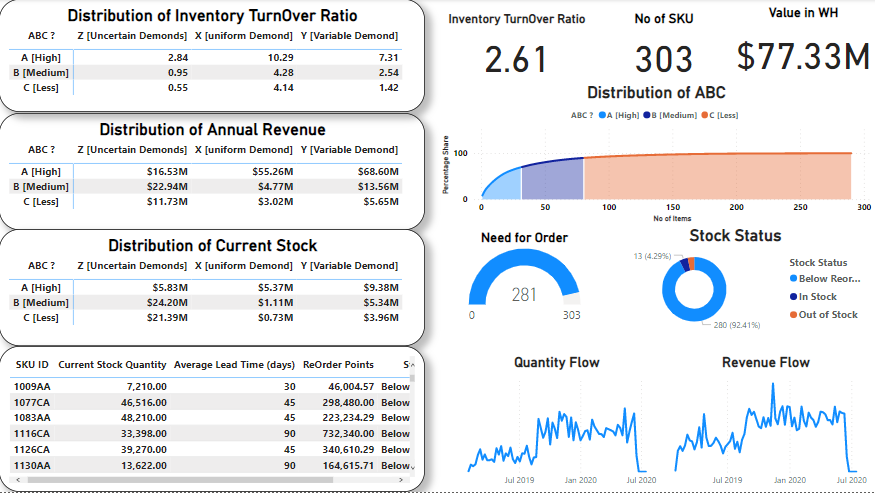

What the dashboard file says about the page in this screenshot:
{"tool":"powerbi","page":{"name":"Page 2","canvas":[1280,720],"ordinal":1},"visuals":[{"type":"areaChart","title":"Distribution of ABC ","fields":{"Category":["Stock.ABC Rank"],"Y":["Avg(Stock.Cumulative Shares)"],"Series":["Stock.ABC ?"]},"box":[641.1,122.7,638.2,208.8],"z":0},{"type":"pivotTable","title":"Distribution of Annual Revenue","fields":{"Rows":["Stock.ABC ?"],"Columns":["Stock.XYZ ?"],"Values":["Sum(Stock.Annual Revenue)"]},"box":[0,166.5,622.2,170.9],"z":1000},{"type":"pivotTable","title":"Distribution of Current Stock","fields":{"Rows":["Stock.ABC ?"],"Columns":["Stock.XYZ ?"],"Values":["Sum(Stock.Value in WH)"]},"box":[0,335.9,622.2,170.9],"z":2000},{"type":"card","title":"Inventory TurnOver Ratio","fields":{"Values":["Stock.Inventory TurnOver Ratio"]},"box":[641.1,17.5,230.8,105.2],"z":3000},{"type":"card","title":"No of SKU ","fields":{"Values":["CountNonNull(Stock.SKU ID)"]},"box":[871.9,17.5,198.6,105.2],"z":4000},{"type":"card","title":"Value in WH","fields":{"Values":["Sum(Stock.Value in WH)"]},"box":[1070.5,8.8,208.8,113.9],"z":5000},{"type":"pivotTable","title":"Distribution of Inventory TurnOver Ratio","fields":{"Rows":["Stock.ABC ?"],"Columns":["Stock.XYZ ?"],"Values":["Stock.Inventory TurnOver Ratio"]},"box":[0,0,622.2,165],"z":6000},{"type":"gauge","title":"Need for Order","fields":{"Y":["Stock.SKU to Reorder"],"MaxValue":["CountNonNull(Stock.SKU ID)"]},"box":[658.7,337.4,217.6,144.6],"z":7000},{"type":"donutChart","title":"Stock Status","fields":{"Category":["Stock.Stock Status"],"Y":["CountNonNull(Stock.SKU ID)"]},"box":[871.9,331.5,407.5,157.7],"z":8000},{"type":"tableEx","title":"Distribution of Current Stock","fields":{"Values":["Stock.SKU ID","Stock.Current Stock Quantity","Stock.Average Lead Time (days)","Stock.ReOrder Points","Stock.Stock Status"]},"box":[0,506.8,622.2,213.2],"z":9000},{"type":"lineChart","title":"Quantity Flow","fields":{"Category":["Weekly Demond Sheet.week date.Variation.Date Hierarchy.Year","Weekly Demond Sheet.week date.Variation.Date Hierarchy.Quarter","Weekly Demond Sheet.week date.Variation.Date Hierarchy.Month","Weekly Demond Sheet.week date.Variation.Date Hierarchy.Day"],"Y":["Sum(Weekly Demond Sheet.Weekly Demonds)"]},"box":[658.7,518.5,312.5,201.5],"z":10000},{"type":"lineChart","title":"Revenue Flow","fields":{"Category":["Weekly Demond Sheet.week date.Variation.Date Hierarchy.Year","Weekly Demond Sheet.week date.Variation.Date Hierarchy.Quarter","Weekly Demond Sheet.week date.Variation.Date Hierarchy.Month","Weekly Demond Sheet.week date.Variation.Date Hierarchy.Day"],"Y":["Sum(Weekly Demond Sheet.Sales Amount)"]},"box":[961,518.5,318.4,201.5],"z":11000}]}

Visuals, with their boxes in screenshot pixels (x1, y1, x2, y2), scaled from the page's 1280x720 canvas onto the 875x493 screenshot:
"Distribution of ABC " areaChart: x1=438, y1=84, x2=874, y2=227
"Distribution of Annual Revenue" pivotTable: x1=0, y1=114, x2=425, y2=231
"Distribution of Current Stock" pivotTable: x1=0, y1=230, x2=425, y2=347
"Inventory TurnOver Ratio" card: x1=438, y1=12, x2=596, y2=84
"No of SKU " card: x1=596, y1=12, x2=732, y2=84
"Value in WH" card: x1=732, y1=6, x2=874, y2=84
"Distribution of Inventory TurnOver Ratio" pivotTable: x1=0, y1=0, x2=425, y2=113
"Need for Order" gauge: x1=450, y1=231, x2=599, y2=330
"Stock Status" donutChart: x1=596, y1=227, x2=874, y2=335
"Distribution of Current Stock" tableEx: x1=0, y1=347, x2=425, y2=492
"Quantity Flow" lineChart: x1=450, y1=355, x2=664, y2=492
"Revenue Flow" lineChart: x1=657, y1=355, x2=874, y2=492
